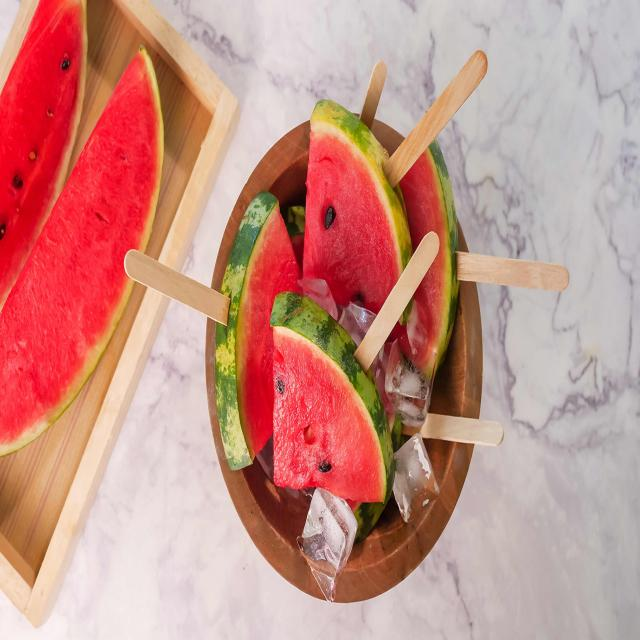watermelon: (0, 41, 171, 462), (258, 282, 405, 508), (0, 0, 96, 324), (292, 95, 412, 346), (206, 183, 309, 475), (388, 116, 462, 380)
